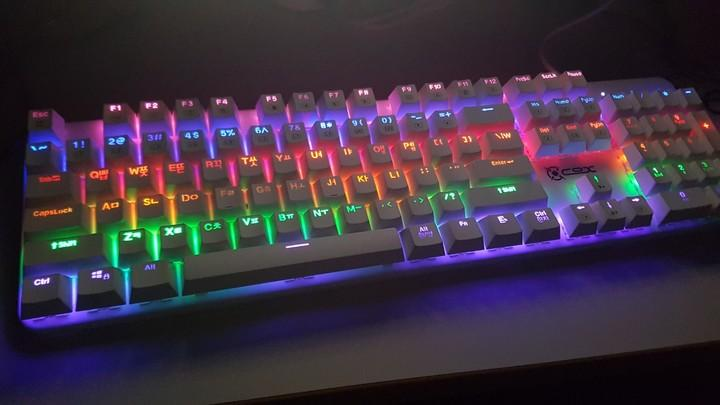keyboard: (17, 69, 720, 339)
